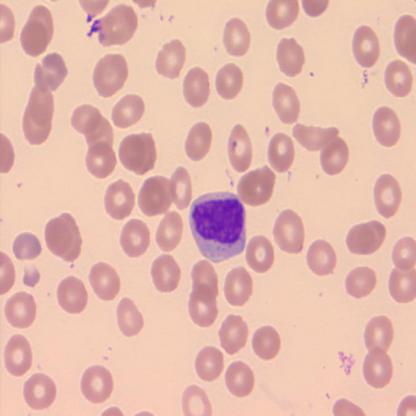Myelocyte: (191, 192, 248, 260)
